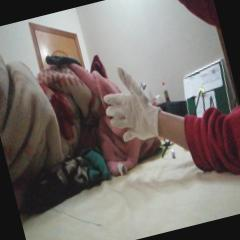gloved: (96, 60, 167, 147)
